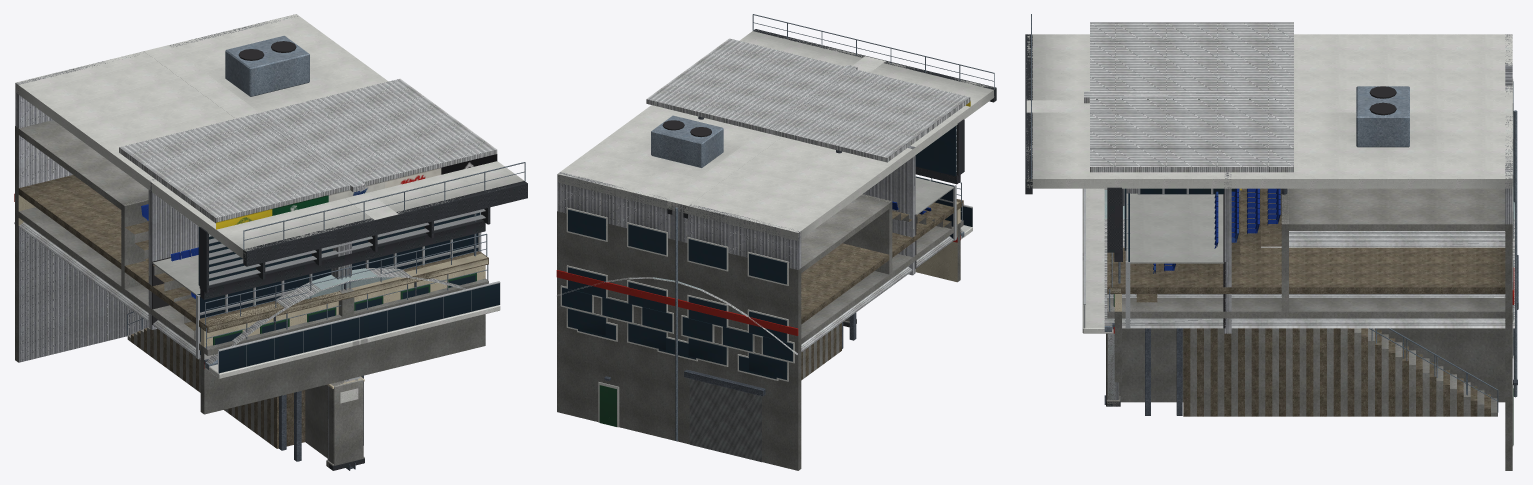
Rendered from pitstyles.glb.
The picture shows the model from 3 angles, left to right: view 1: azimuth 30°, elevation 25°; view 2: azimuth 150°, elevation 25°; view 3: azimuth 270°, elevation 25°; orthographic projection. The views are drawn at different scales.
Visible parts, largest first — view 1: ps_modern_bay, ps_terrace_bay, ps_heritage_bay, ps_shed_bay, ps_terrace_endL, ps_terrace_pier, ps_heritage_endL, ps_modern_endL, ps_modern_endR, ps_terrace_endR; view 2: ps_terrace_bay, ps_modern_bay, ps_heritage_bay, ps_shed_bay, ps_modern_endL, ps_modern_endR, ps_terrace_endL, ps_heritage_endL, ps_terrace_endR; view 3: ps_modern_bay, ps_terrace_bay, ps_terrace_endR, ps_heritage_bay, ps_shed_bay, ps_heritage_endR, ps_modern_endR, ps_modern_endL, ps_terrace_endL, ps_modern_pier.
Boxes of the visible parts, x1=… form: ps_modern_bay: x1=15, y1=14, x2=527, y2=378; ps_terrace_bay: x1=15, y1=78, x2=497, y2=414; ps_heritage_bay: x1=14, y1=175, x2=488, y2=368; ps_shed_bay: x1=14, y1=222, x2=465, y2=369; ps_terrace_endL: x1=127, y1=115, x2=359, y2=458; ps_terrace_pier: x1=329, y1=379, x2=363, y2=465; ps_heritage_endL: x1=128, y1=268, x2=342, y2=461; ps_modern_endL: x1=144, y1=48, x2=386, y2=346; ps_modern_endR: x1=156, y1=45, x2=398, y2=344; ps_terrace_endR: x1=263, y1=113, x2=365, y2=315; ps_terrace_bay: x1=557, y1=38, x2=970, y2=470; ps_modern_bay: x1=557, y1=14, x2=996, y2=440; ps_heritage_bay: x1=556, y1=178, x2=963, y2=441; ps_shed_bay: x1=557, y1=229, x2=964, y2=440; ps_modern_endL: x1=677, y1=58, x2=885, y2=241; ps_modern_endR: x1=667, y1=56, x2=875, y2=239; ps_terrace_endL: x1=769, y1=66, x2=857, y2=380; ps_heritage_endL: x1=825, y1=312, x2=856, y2=362; ps_terrace_endR: x1=764, y1=64, x2=851, y2=126; ps_modern_bay: x1=1025, y1=14, x2=1517, y2=396; ps_terrace_bay: x1=1090, y1=22, x2=1518, y2=470; ps_terrace_endR: x1=1084, y1=94, x2=1505, y2=416; ps_heritage_bay: x1=1107, y1=220, x2=1518, y2=445; ps_shed_bay: x1=1104, y1=188, x2=1518, y2=397; ps_heritage_endR: x1=1145, y1=328, x2=1497, y2=416; ps_modern_endR: x1=1026, y1=106, x2=1512, y2=260; ps_modern_endL: x1=1026, y1=100, x2=1512, y2=255; ps_terrace_endL: x1=1084, y1=91, x2=1287, y2=94; ps_modern_pier: x1=1106, y1=333, x2=1120, y2=406.
Size of the model in its own units: 14.12 by 14.81 by 20.2.
24 materials, 22 textured.
